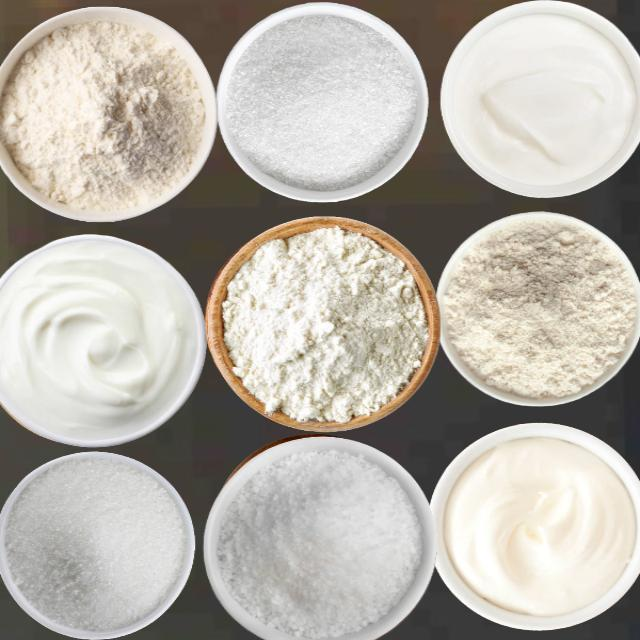Flour: (220, 224, 428, 423), (0, 19, 205, 212), (442, 218, 637, 398)
Sugar: (215, 448, 422, 638), (224, 12, 417, 190), (2, 456, 185, 632)
